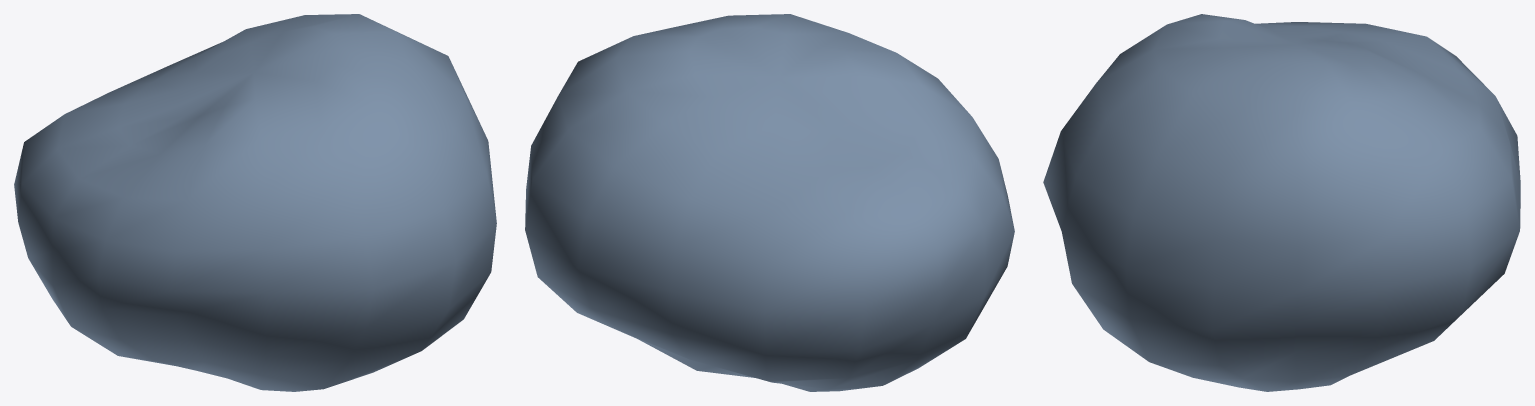
The model's file is rock.glb.
The picture shows the model from 3 angles, left to right: view 1: azimuth 30°, elevation 25°; view 2: azimuth 150°, elevation 25°; view 3: azimuth 270°, elevation 25°; orthographic projection. The views are drawn at different scales.
Parts seen in each view (by area): view 1: mesh; view 2: mesh; view 3: mesh.
Boxes of the visible parts, x1,y1,x2,y2 form: mesh: [14, 14, 496, 391]; mesh: [525, 14, 1014, 391]; mesh: [1043, 14, 1520, 391].
Bounding box in the file's own units: 1.29 × 0.9466 × 1.22.
